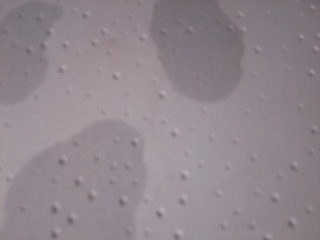Water_detected: (36, 135, 152, 240), (153, 16, 216, 82), (1, 22, 53, 87)
